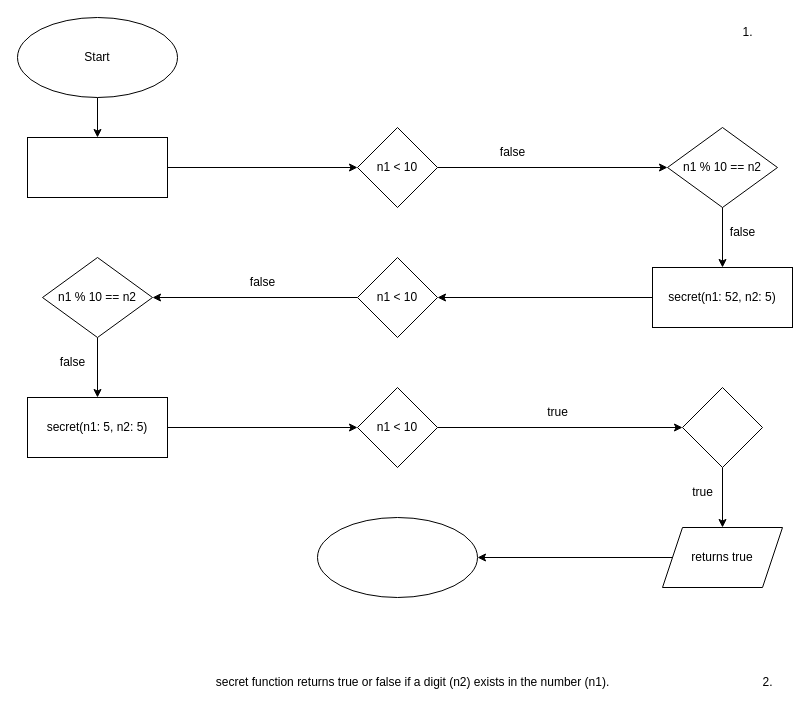
The diagram is 810 pixels wide and 715 high, and some of its shapes have lost their labels. The shapes that lost their labels are listed below. From the top down, each one's centre as x and y in pixels, then its label:
At [97,167]: "secret(n1: 528, n2: 5)".
At [722,427]: "n1 == n2".
At [397,557]: "End".
